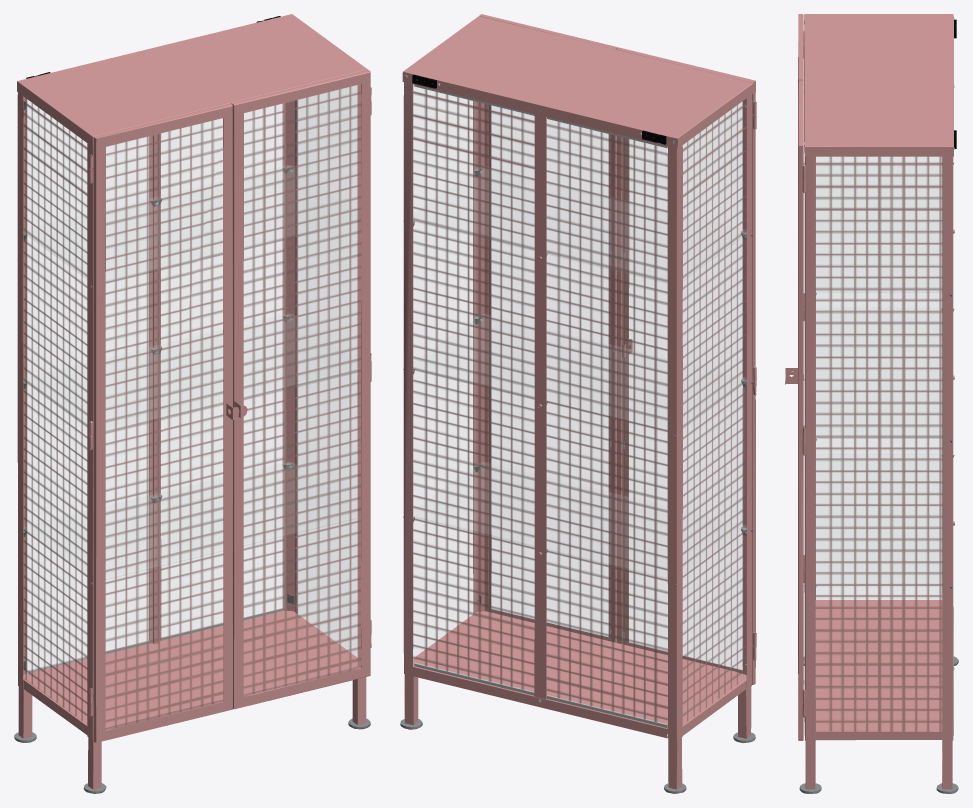
The model's file is ikea_ps_2026_witryna_80616952.glb.
3 views of the same model, side by side, from view 1: azimuth 30°, elevation 25°; view 2: azimuth 150°, elevation 25°; view 3: azimuth 270°, elevation 25° (orthographic).
Parts seen in each view (by area): view 1: ikea_ps_2026_witryna_80616952; view 2: ikea_ps_2026_witryna_80616952; view 3: ikea_ps_2026_witryna_80616952.
Boxes of the visible parts, left/top/right/bottom form: ikea_ps_2026_witryna_80616952: left=14, top=14, right=371, bottom=793; ikea_ps_2026_witryna_80616952: left=400, top=14, right=756, bottom=793; ikea_ps_2026_witryna_80616952: left=785, top=14, right=958, bottom=793.
Bounding box in the file's own units: 0.7251 × 1.6 × 0.3895.
2 materials, 2 textured.
